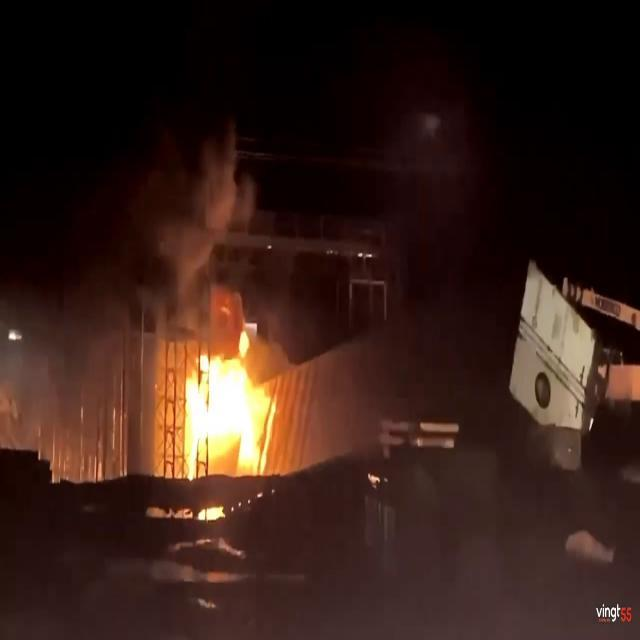Fire: (176, 329, 280, 474)
Smoke: (97, 77, 259, 341)
